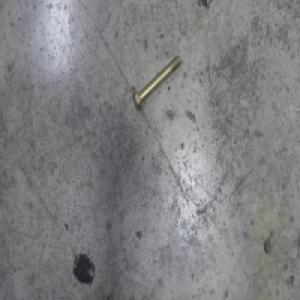Bolt: (130, 56, 180, 113)
